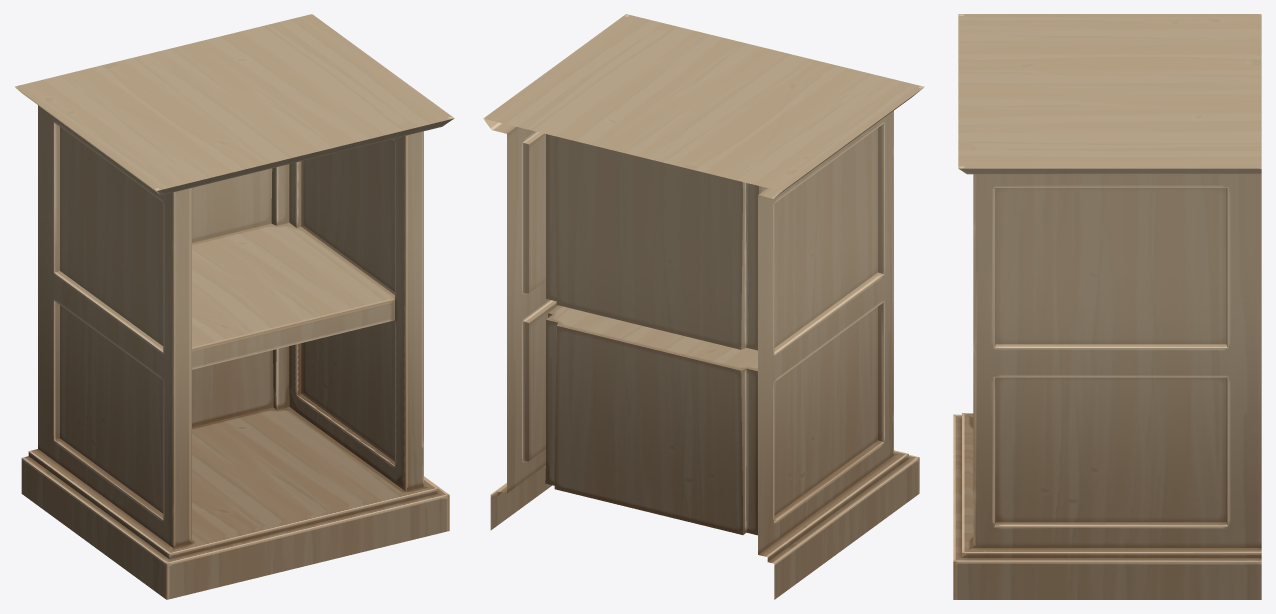
The model's file is Fancy_liquor_stand.fbx.
3 renders of one model, left to right at view 1: azimuth 30°, elevation 25°; view 2: azimuth 150°, elevation 25°; view 3: azimuth 270°, elevation 25°, orthographic. The views are drawn at different scales.
Parts seen in each view (by area): view 1: fancy_shelf; view 2: fancy_shelf; view 3: fancy_shelf.
Boxes of the visible parts, x1,y1,x2,y2 form: fancy_shelf: (14, 14, 454, 599); fancy_shelf: (483, 14, 924, 599); fancy_shelf: (953, 14, 1261, 599).
Size of the model in its own units: 111 by 145 by 93.48.
Materials: 1 (1 with a texture image).
